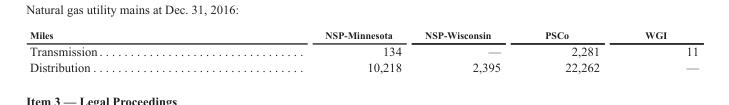table: (28, 28, 698, 73)
table column: (210, 28, 412, 73), (28, 28, 210, 73), (412, 28, 522, 73), (522, 28, 621, 73), (621, 28, 698, 73)
table column header: (28, 28, 698, 41)
table row: (28, 41, 698, 58), (28, 58, 698, 73), (28, 28, 698, 41)
